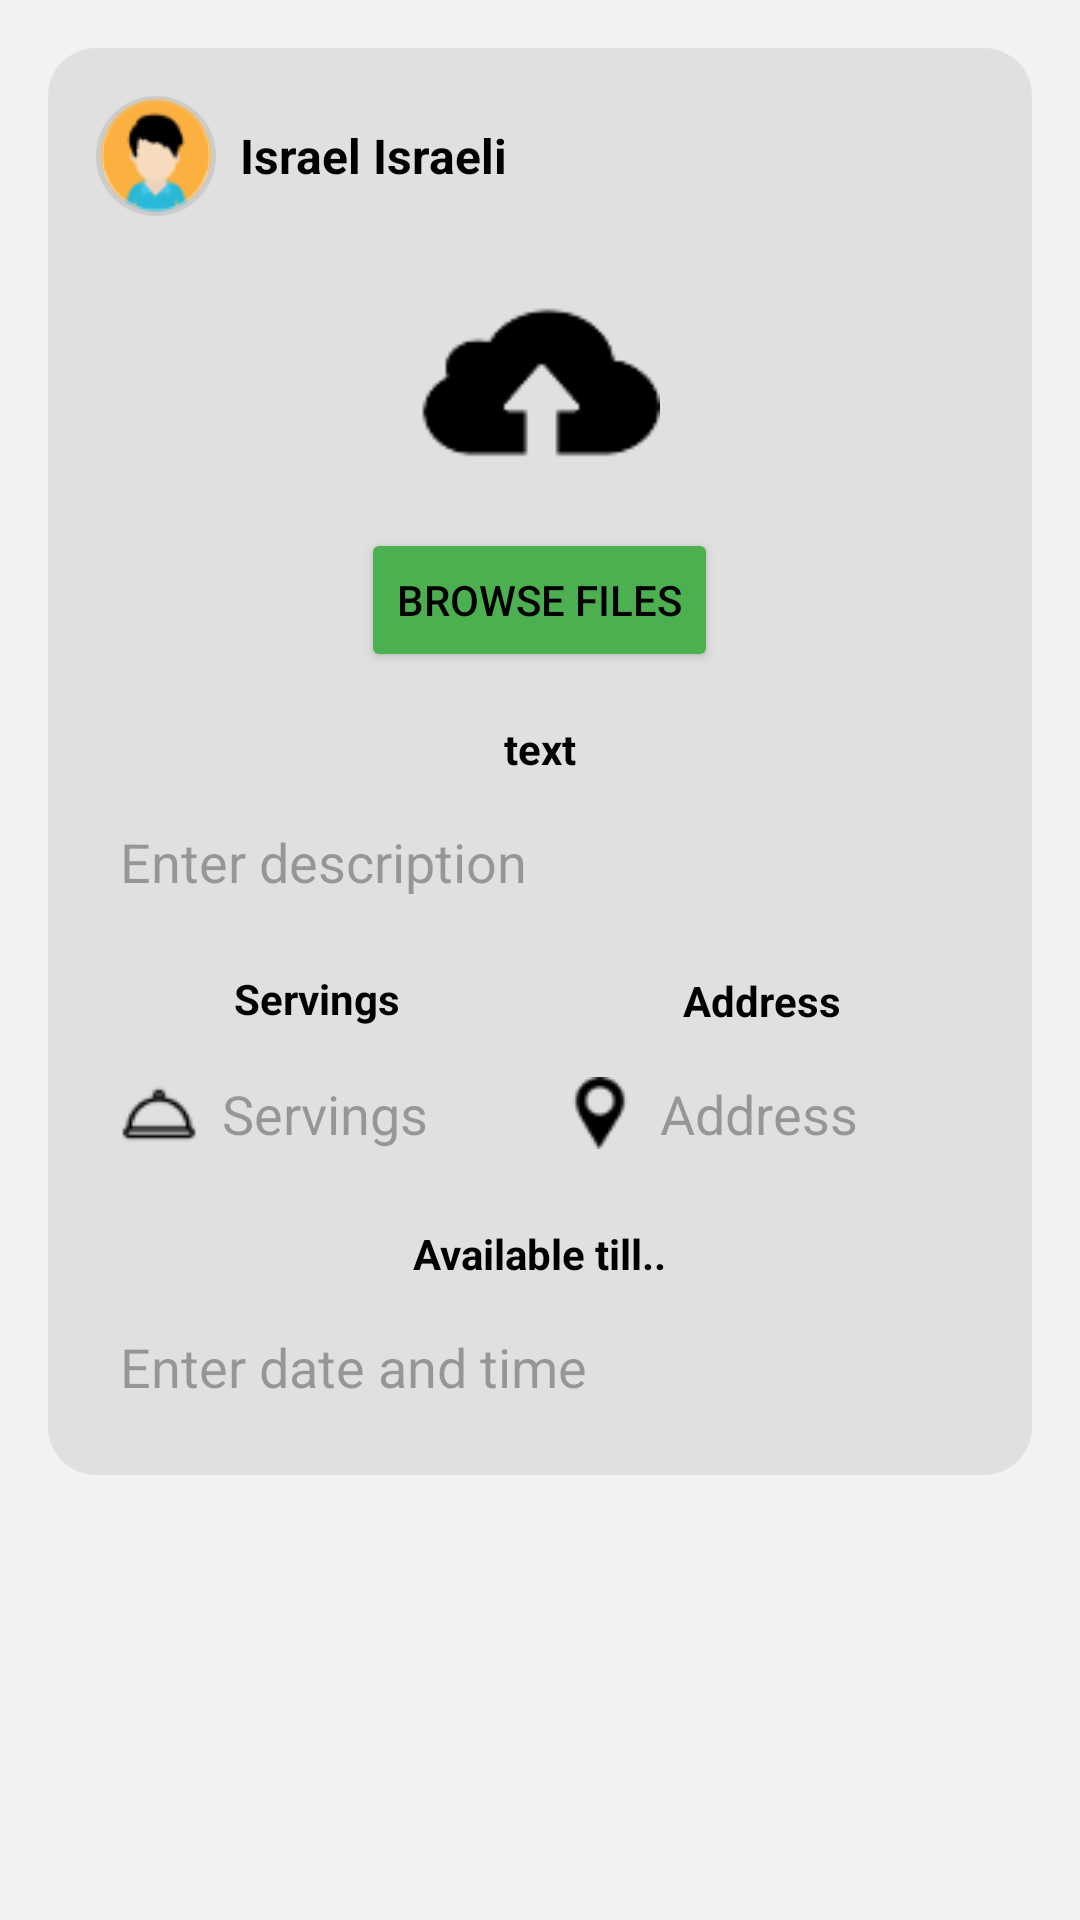

Icons on this 1080px x 1920px Android screen, each with its box as bbox=[x1, y1, x2, y2]:
Upload Icon: bbox=[422, 308, 660, 456]
